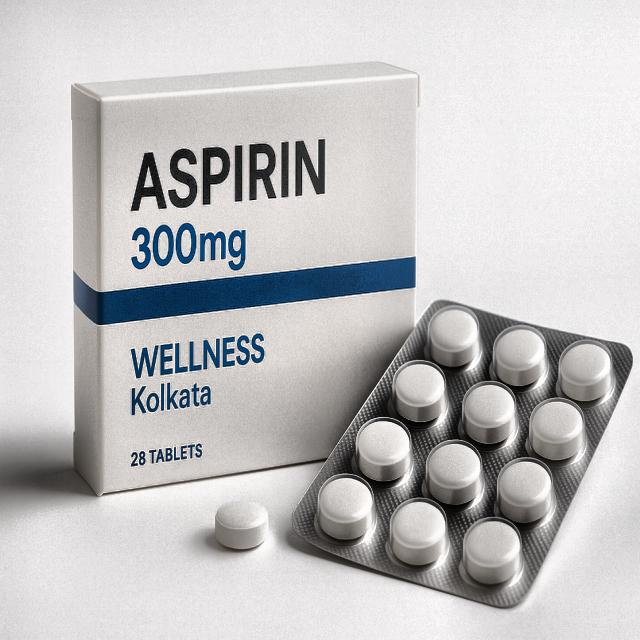Aspirin: (100, 102, 336, 438)
